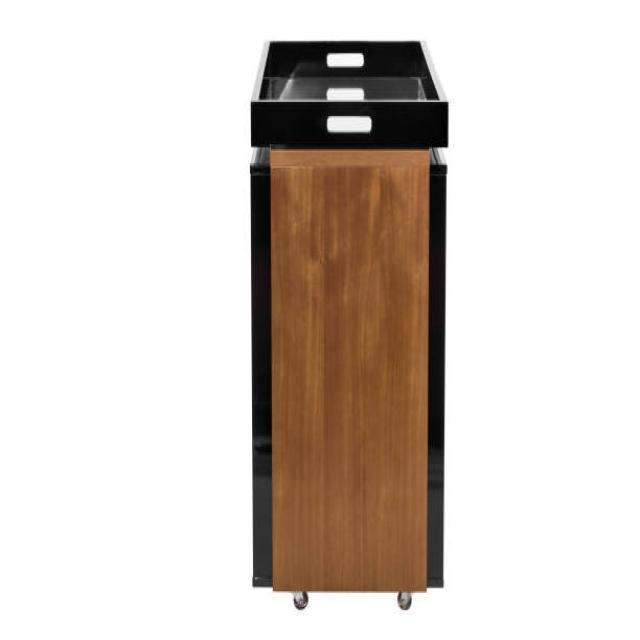table: (249, 39, 449, 610)
